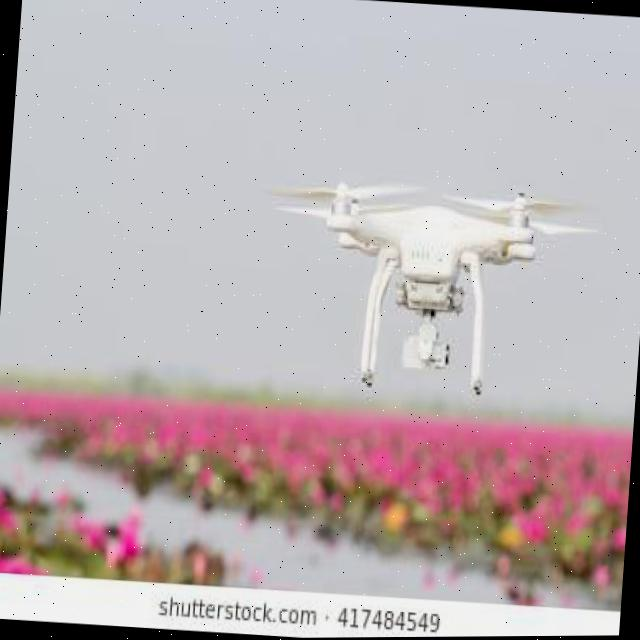drone: (249, 151, 616, 420)
